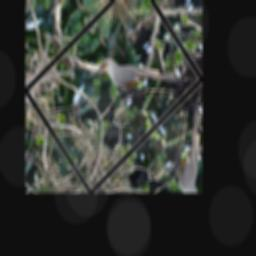Cuckoo: (88, 15, 189, 140)
